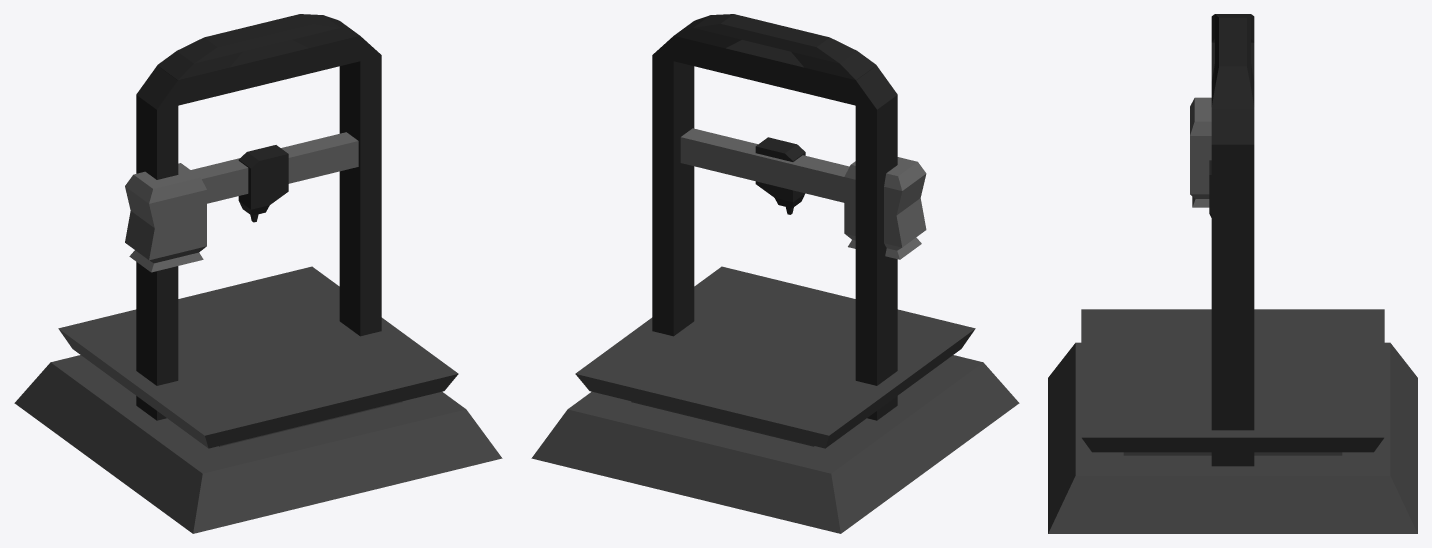
The model's file is 3DPrinter.fbx.
3 renders of one model, left to right at view 1: azimuth 30°, elevation 25°; view 2: azimuth 150°, elevation 25°; view 3: azimuth 270°, elevation 25°, orthographic. The views are drawn at different scales.
Parts seen in each view (by area): view 1: 3D Printer Base, 3D Printer Piece 1, 3D Printer Piece 2; view 2: 3D Printer Base, 3D Printer Piece 1, 3D Printer Piece 2; view 3: 3D Printer Base, 3D Printer Piece 1.
Boxes of the visible parts, box(x1,y1,x2,y2) form: 3D Printer Base: box(14, 14, 502, 533); 3D Printer Piece 1: box(125, 132, 358, 272); 3D Printer Piece 2: box(238, 145, 288, 222); 3D Printer Base: box(531, 14, 1019, 533); 3D Printer Piece 1: box(680, 128, 926, 259); 3D Printer Piece 2: box(755, 137, 805, 214); 3D Printer Base: box(1048, 14, 1417, 533); 3D Printer Piece 1: box(1190, 97, 1211, 207).
Bounding box in the file's own units: 200 × 247 × 200.
